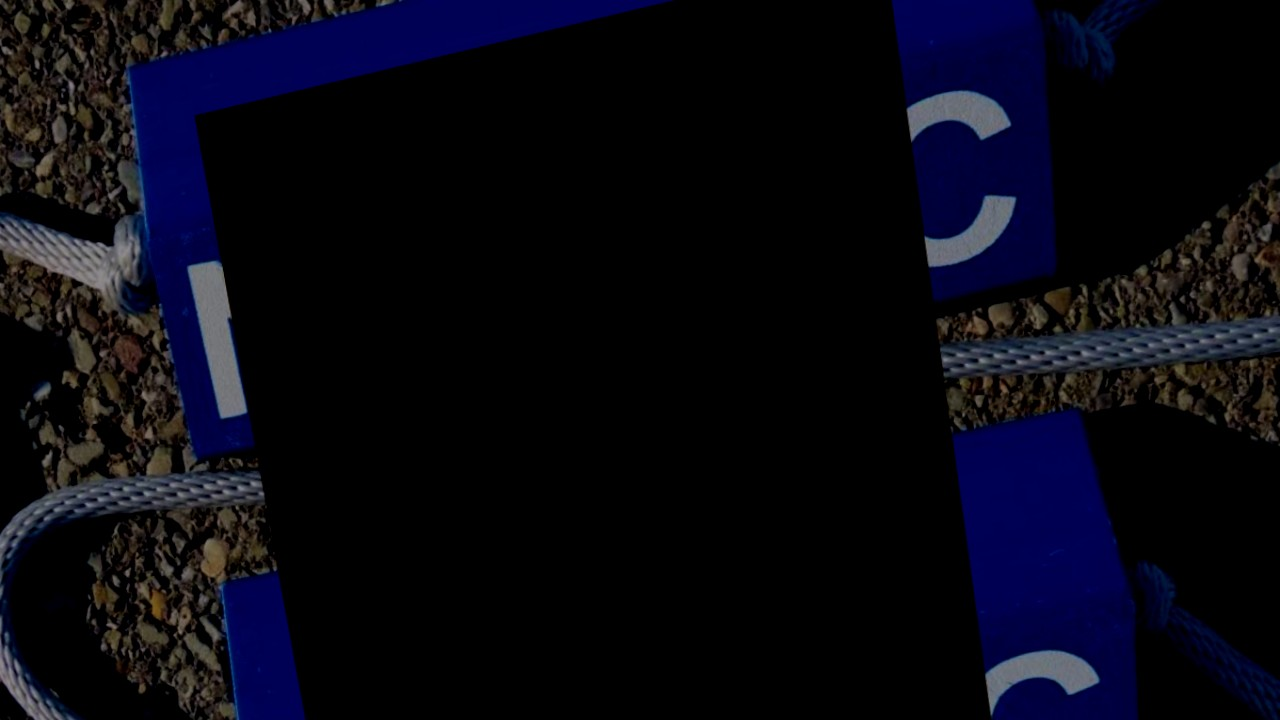chock: (106, 0, 1103, 477), (198, 381, 1198, 720)
